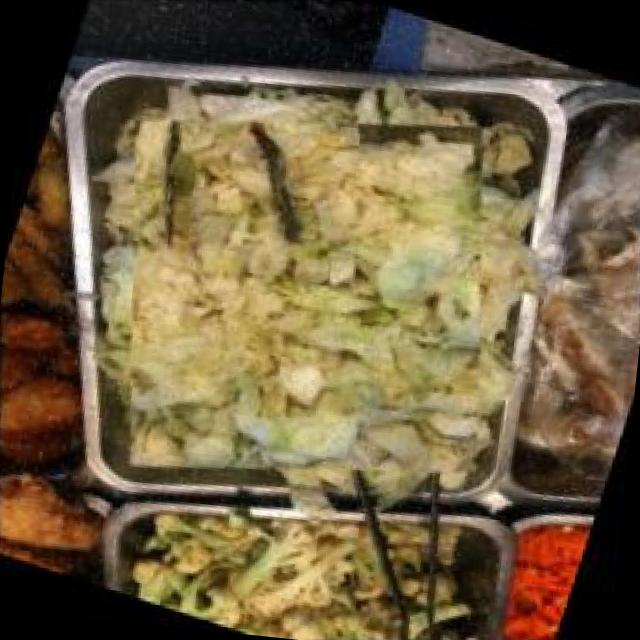carrot_eggs: (496, 503, 593, 640)
chinese_cabbage: (22, 16, 588, 580)
triangle_hash_brown: (0, 311, 97, 465)
